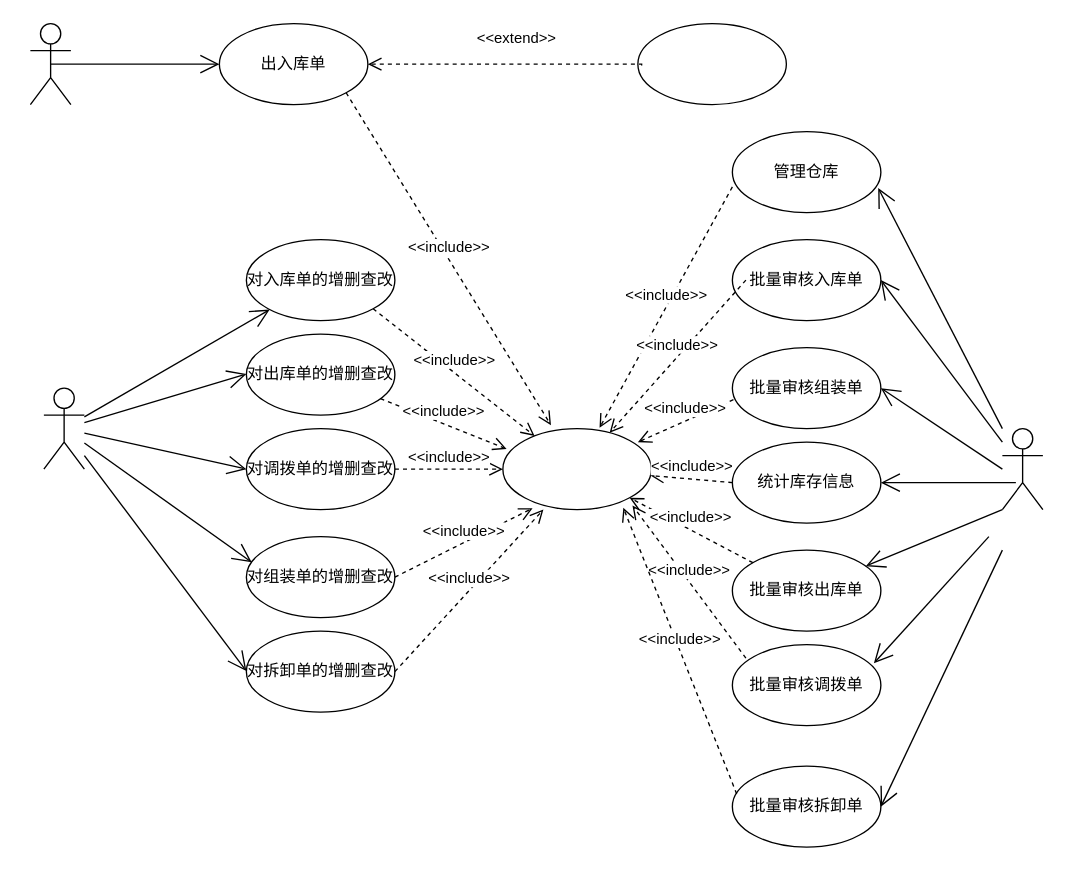
This 1075x871 diagram has some shape labels left out. Here are the shapes that lost their labels. From the top down, the centre of each, then its label:
(50,63): 质检员
(711,63): 新增商品
(63,428): 库存管理员
(576,468): 登录系统
(1022,468): 仓库经理
